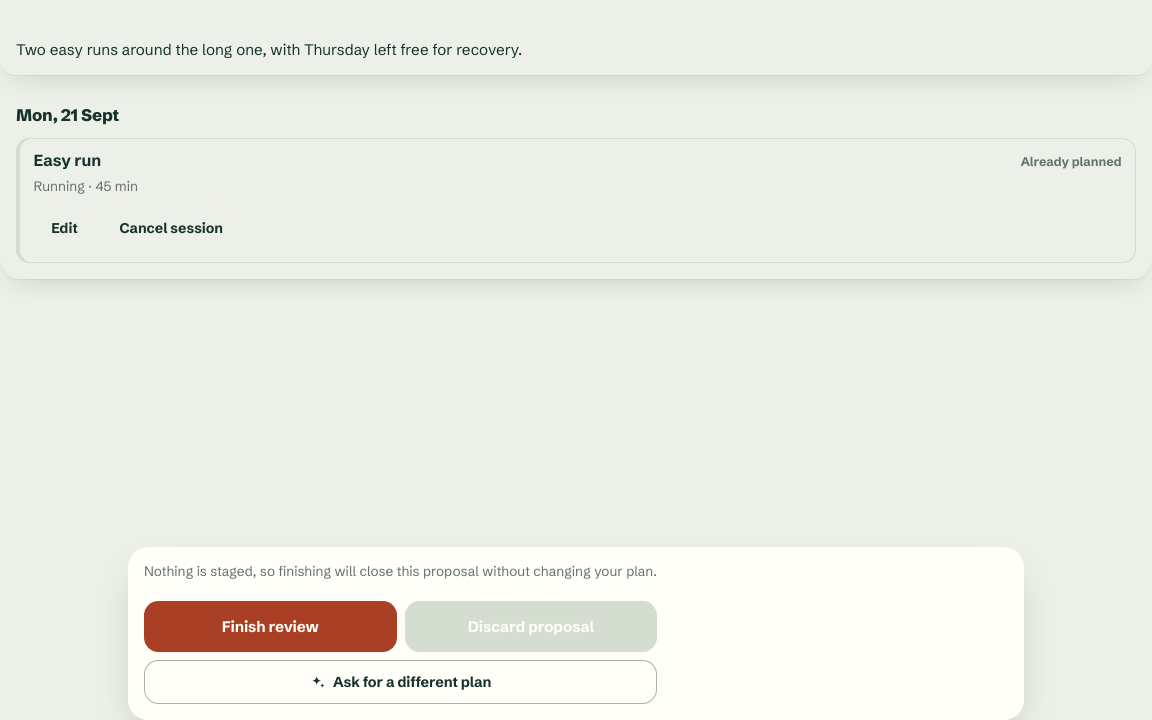
Test case: open memory suggestions before the review ends (owner, 19 Oct 2026) › lists them in the discard question too
Click the button "Discard proposal" at [531, 626], box [405,601,657,652]
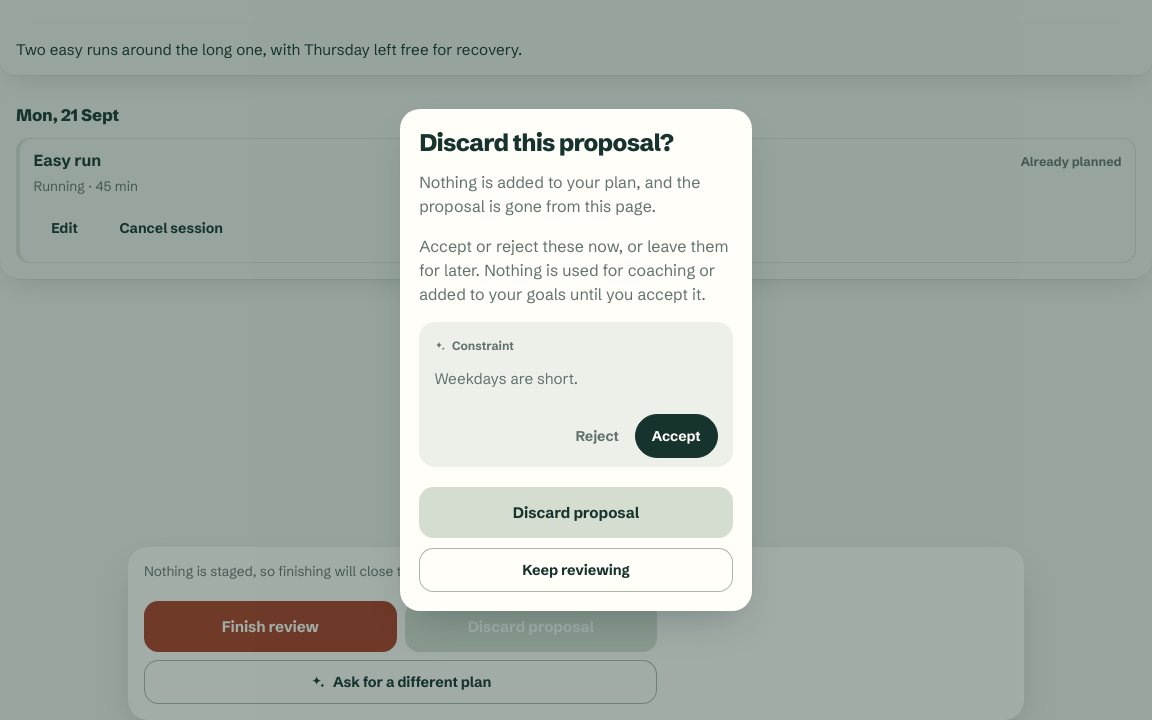
Now the text "Weekdays are short." is shown, box [434,369,578,388]
